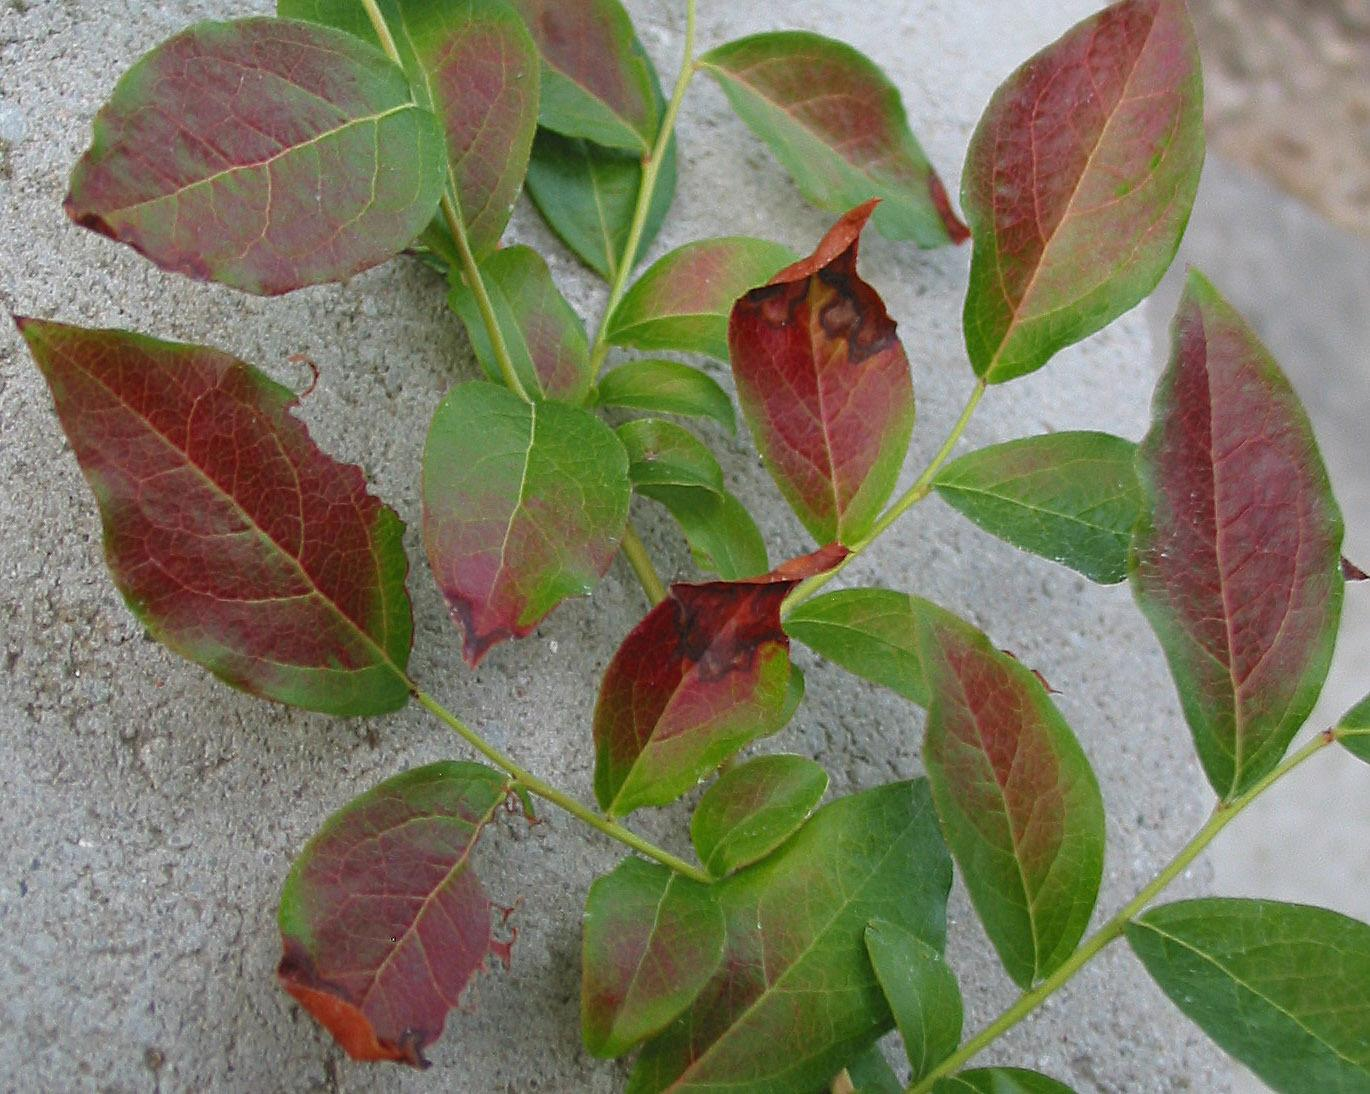Blueberry leaf: (22, 317, 452, 737), (1110, 270, 1343, 828), (617, 765, 981, 1094), (56, 12, 475, 292), (879, 575, 1131, 1002), (955, 6, 1210, 390), (245, 755, 531, 1061), (568, 560, 835, 825), (406, 351, 630, 662), (696, 50, 973, 255), (694, 750, 834, 887)
